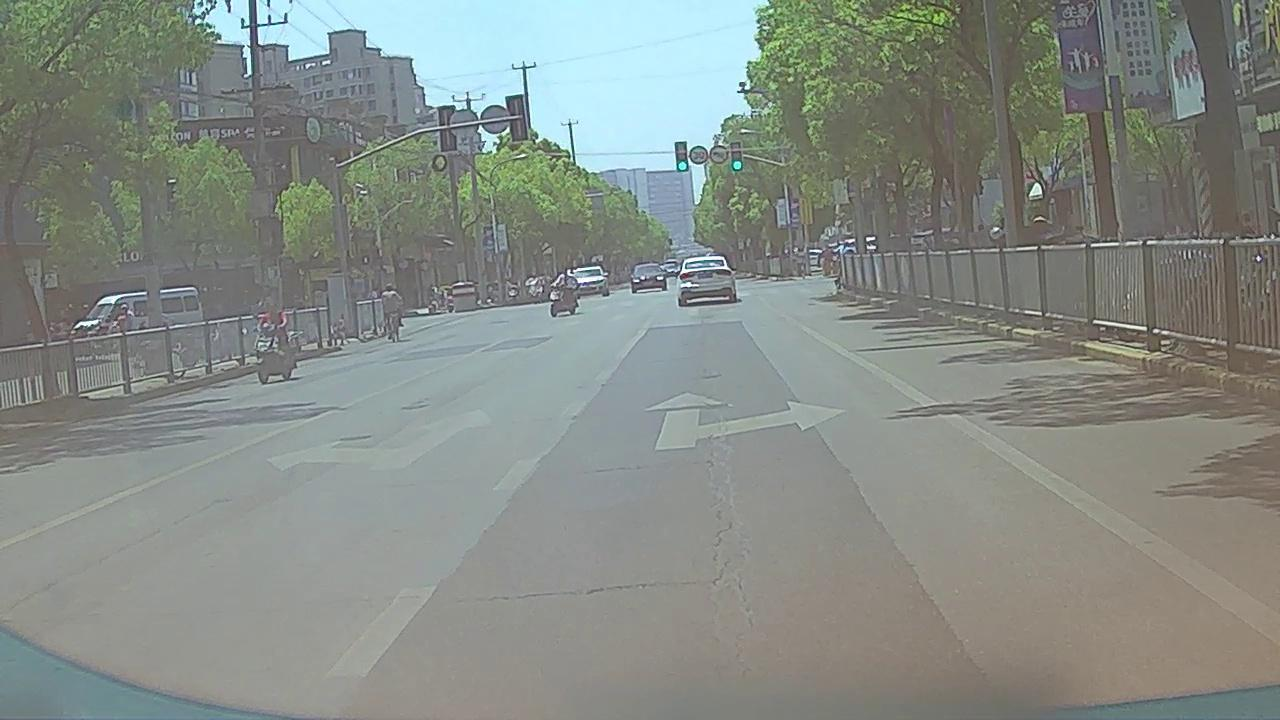traffic_light: (674, 141, 688, 171), (732, 143, 743, 172)
